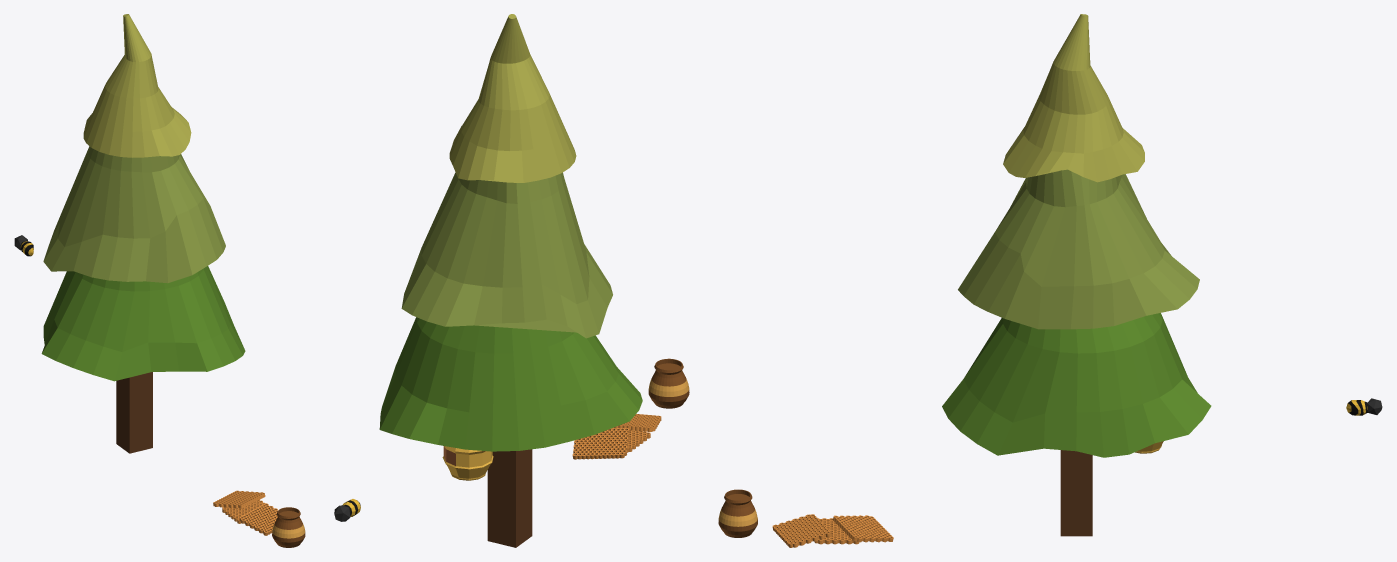
Rendered from Mel.fbx.
The picture shows the model from 3 angles, left to right: view 1: azimuth 30°, elevation 25°; view 2: azimuth 150°, elevation 25°; view 3: azimuth 270°, elevation 25°; orthographic projection. The views are drawn at different scales.
Parts seen in each view (by area): view 1: Cone.001, Cone, Cone.002, Cube, Cylinder, HoneyComb.003, HoneyComb.002, HoneyComb.001; view 2: Cone, Cone.001, Cone.002, Cube, Cylinder, HoneyComb.002, Sphere, HoneyComb.003; view 3: Cone, Cone.001, Cone.002, Cube, Cylinder, HoneyComb.003, HoneyComb.002.
Boxes of the visible parts, x1,y1,x2,y2 form: Cone.001: [43, 146, 225, 283]; Cone: [41, 266, 245, 381]; Cone.002: [83, 14, 191, 157]; Cube: [116, 372, 152, 453]; Cylinder: [272, 507, 305, 547]; HoneyComb.003: [239, 503, 277, 535]; HoneyComb.002: [213, 490, 265, 508]; HoneyComb.001: [222, 499, 265, 523]; Cone: [379, 317, 642, 451]; Cone.001: [401, 172, 612, 338]; Cone.002: [449, 14, 576, 182]; Cube: [487, 449, 532, 547]; Cylinder: [648, 358, 689, 408]; HoneyComb.002: [572, 428, 629, 459]; Sphere: [442, 446, 493, 480]; HoneyComb.003: [611, 414, 661, 431]; Cone: [942, 313, 1211, 457]; Cone.001: [958, 169, 1199, 329]; Cone.002: [1003, 14, 1144, 182]; Cube: [1060, 450, 1092, 536]; Cylinder: [718, 489, 757, 537]; HoneyComb.003: [772, 514, 831, 547]; HoneyComb.002: [833, 515, 893, 542].
Size of the model in its own units: 855 by 1907 by 2238.
